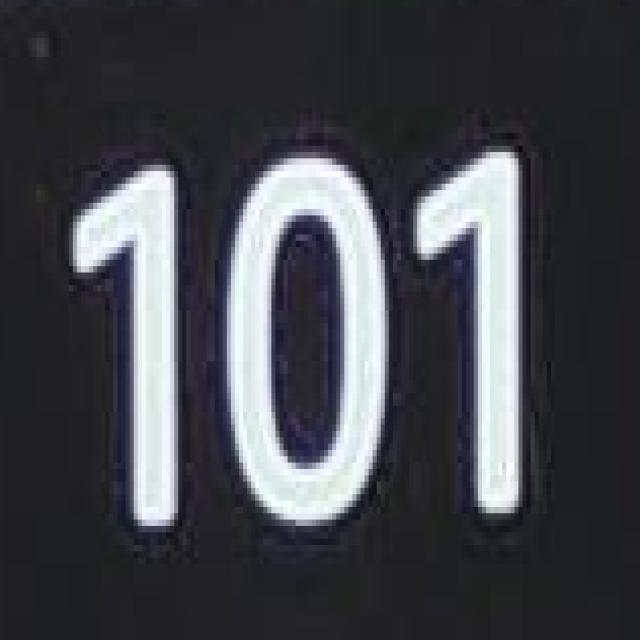character: (220, 135, 395, 545), (408, 128, 538, 534), (64, 154, 194, 557)
